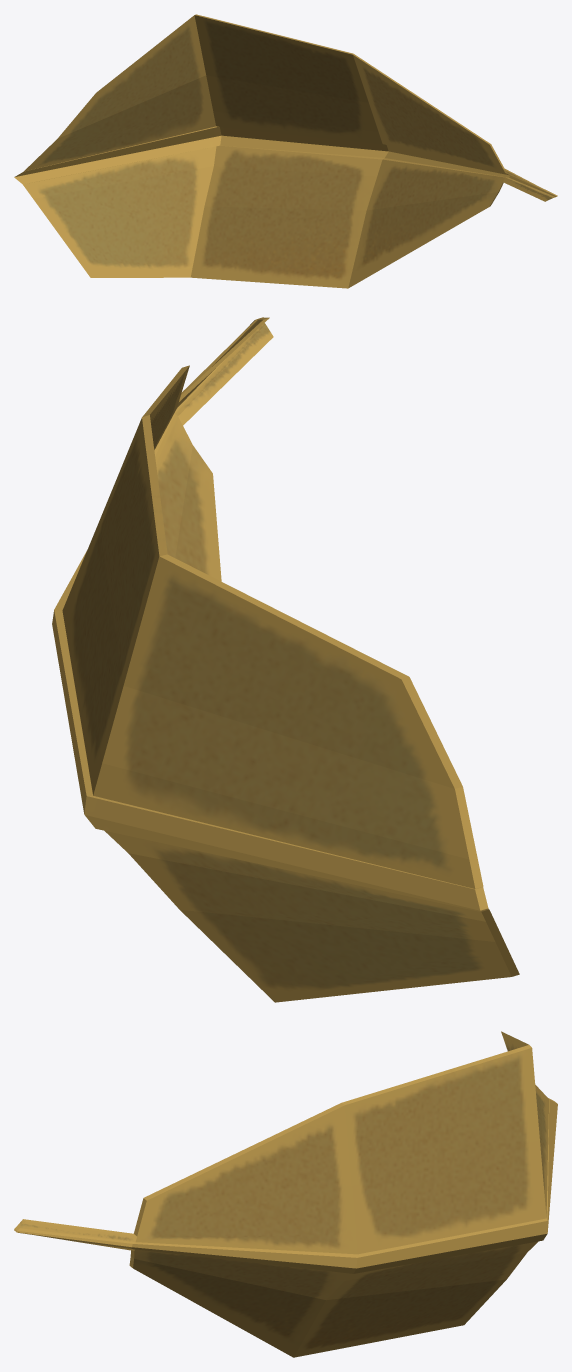
The model's file is Dead_Leaf_04.fbx.
3 renders of one model, top to bottom at view 1: azimuth 30°, elevation 25°; view 2: azimuth 150°, elevation 25°; view 3: azimuth 270°, elevation 25°, orthographic. The views are drawn at different scales.
Parts seen in each view (by area): view 1: Dead_Leaf_04; view 2: Dead_Leaf_04; view 3: Dead_Leaf_04.
Boxes of the visible parts, x1,y1,x2,y2 form: Dead_Leaf_04: (14,14,557,288); Dead_Leaf_04: (52,317,519,1002); Dead_Leaf_04: (14,1031,557,1357).
Size of the model in its own units: 183 by 125 by 207.
